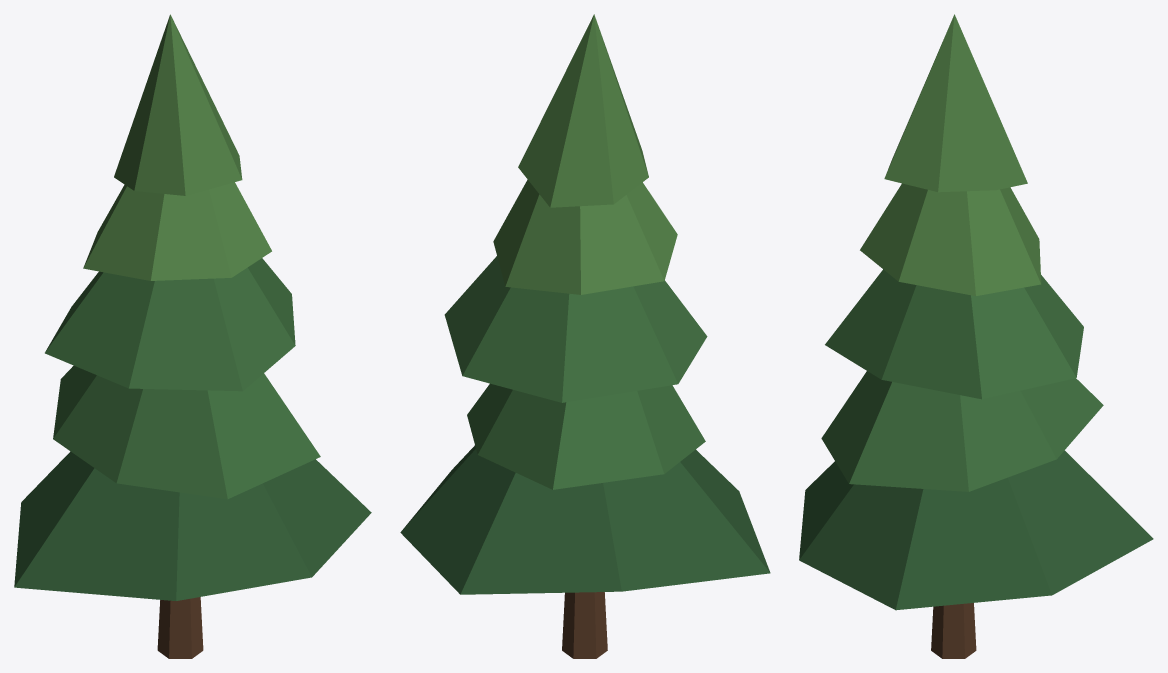
File: Tree_Pine_B.fbx
3 views of the same model, side by side, from view 1: azimuth 30°, elevation 25°; view 2: azimuth 150°, elevation 25°; view 3: azimuth 270°, elevation 25° (orthographic).
Visible parts, largest first — view 1: Tree_Pine_B; view 2: Tree_Pine_B; view 3: Tree_Pine_B.
Part boxes in pixels (x1,y1,x2,y2): Tree_Pine_B: (14,14,371,658); Tree_Pine_B: (400,14,770,658); Tree_Pine_B: (799,14,1153,658).
Size of the model in its own units: 2.32 by 4.19 by 2.13.
